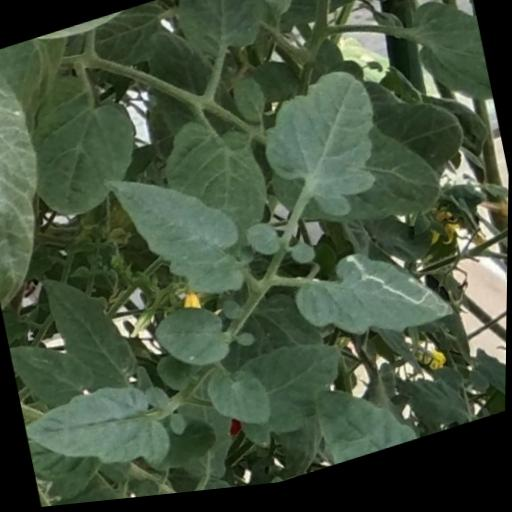Healthy: (96, 139, 256, 331), (251, 65, 396, 247), (14, 55, 150, 231), (22, 368, 178, 504), (149, 296, 236, 387), (202, 360, 276, 447)
Leaf_Miner: (281, 225, 469, 376)
